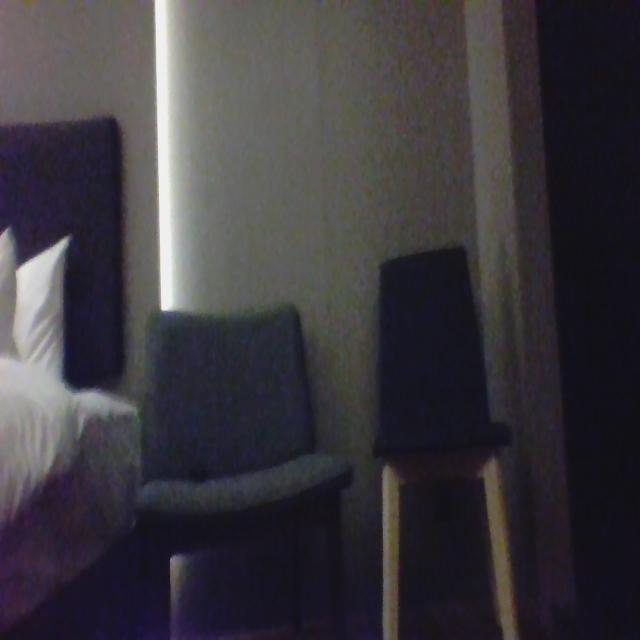empty: (140, 301, 315, 510), (368, 255, 488, 462)
